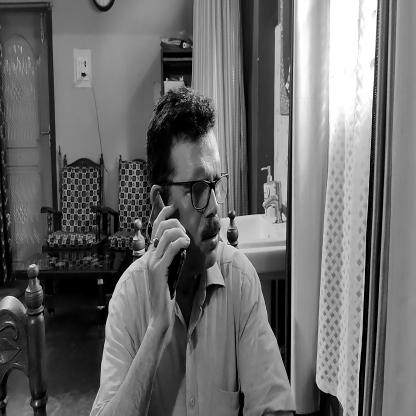Distracted: (168, 102, 229, 267)
